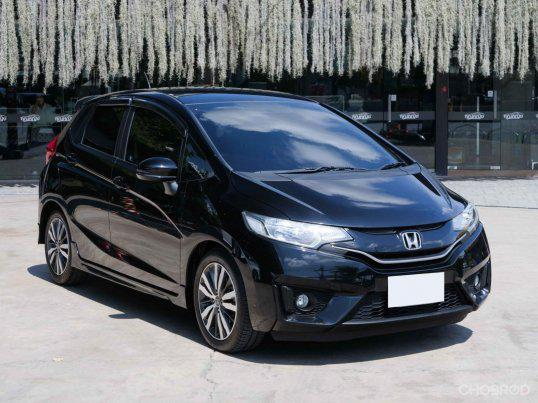Hatchback: (29, 76, 498, 358)
